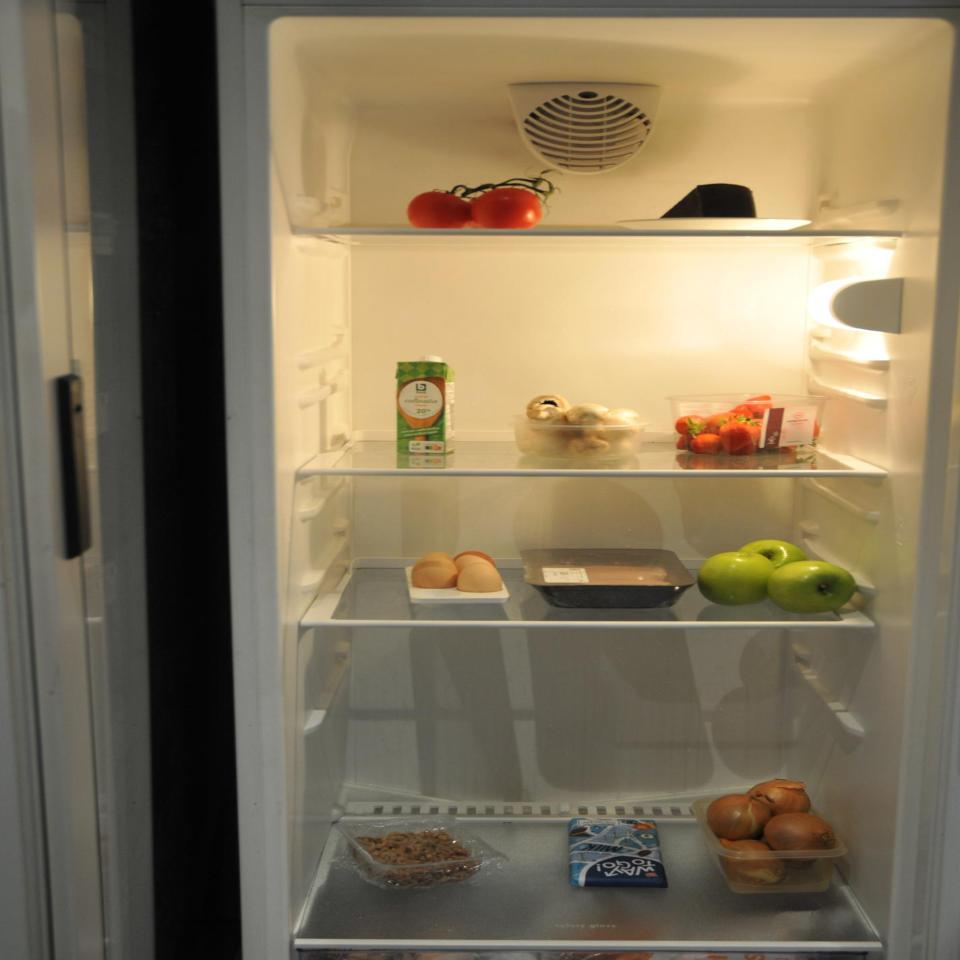Carne pollo: (528, 546, 686, 592)
Huevos: (406, 544, 506, 600)
Manzana: (691, 537, 866, 616)
Queso: (659, 179, 762, 222)
Tomate: (404, 177, 544, 234)
strawberries: (672, 394, 830, 455)
